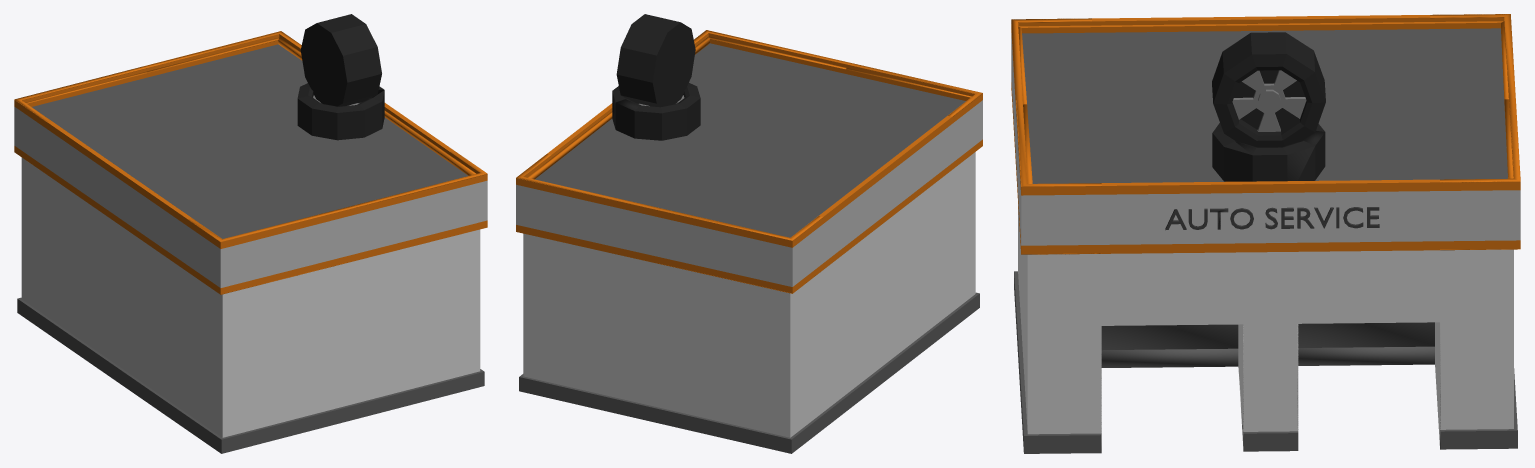
The model's file is car-wash.glb.
3 views of the same model, side by side, from view 1: azimuth 30°, elevation 25°; view 2: azimuth 150°, elevation 25°; view 3: azimuth 270°, elevation 25° (orthographic). The views are drawn at different scales.
Visible parts, largest first — view 1: AutoService_01; view 2: AutoService_01; view 3: AutoService_01.
Boxes of the visible parts, x1,y1,x2,y2 form: AutoService_01: [14, 14, 487, 453]; AutoService_01: [516, 14, 982, 453]; AutoService_01: [1011, 14, 1520, 453].
Size of what is drawn, in the model's own units: 0.728 by 0.7536 by 0.9105.
1 material, 1 textured.
